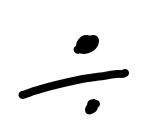div: (19, 35, 129, 115)
